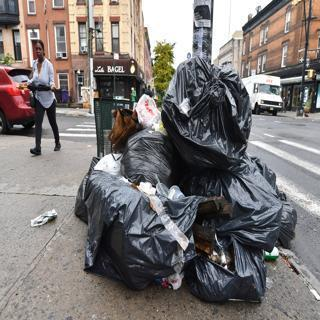Garbage: (79, 169, 196, 288), (163, 57, 256, 166), (185, 157, 285, 250), (185, 238, 271, 301), (118, 128, 175, 187)
